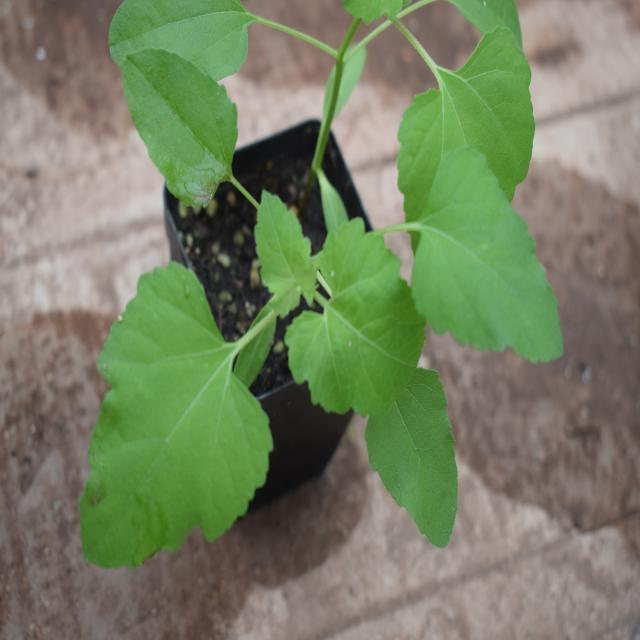cocklebur: (69, 38, 543, 518)
